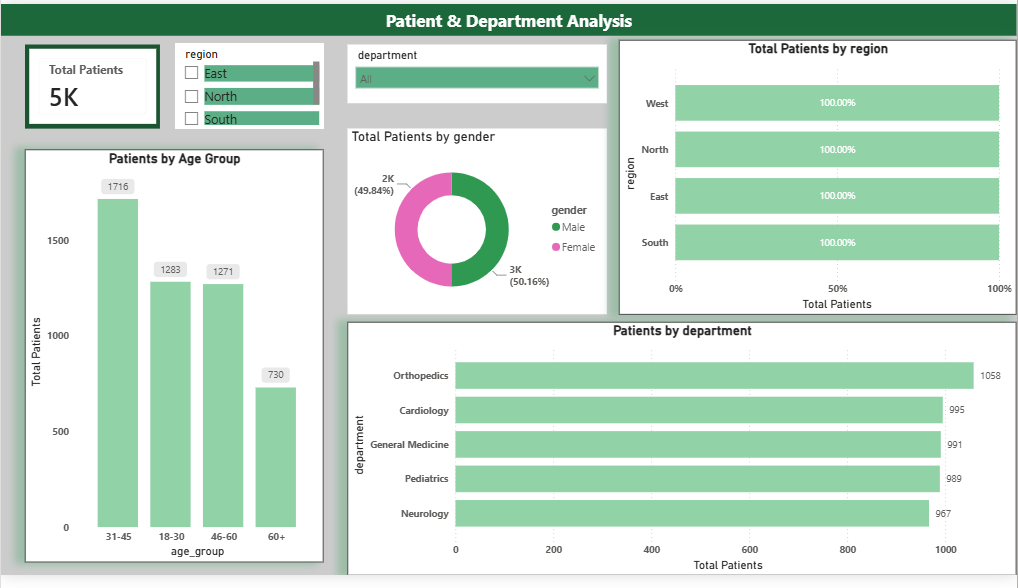

Layout of this report page (visuals, bound fields, positions):
{"tool":"powerbi","page":{"name":"Patient & Department Analysis","canvas":[1280,720],"ordinal":1},"visuals":[{"type":"textbox","box":[0,0,1279.4,39.7],"z":0},{"type":"cardVisual","fields":{"Data":["Measures (2).Total Patients"]},"box":[30.2,51,170.1,105.8],"z":1000},{"type":"clusteredColumnChart","title":"Patients by Age Group","fields":{"Category":["PatientAnalytics.age_group"],"Y":["Measures (2).Total Patients"]},"box":[30.2,183.3,376.1,519.7],"z":2000},{"type":"clusteredBarChart","title":" Patients by department","fields":{"Category":["PatientAnalytics.department"],"Y":["Measures (2).Total Patients"]},"box":[436.5,400.6,842.8,319.4],"z":3000},{"type":"donutChart","fields":{"Category":["PatientAnalytics.gender"],"Y":["Measures (2).Total Patients"]},"box":[436.5,156.9,326.9,234.3],"z":4000},{"type":"hundredPercentStackedBarChart","fields":{"Category":["PatientAnalytics.region"],"Y":["Measures (2).Total Patients"]},"box":[778.6,45.4,500.8,345.8],"z":5000},{"type":"slicer","fields":{"Values":["PatientAnalytics.region"]},"box":[219.2,49.1,187.1,107.7],"z":6000},{"type":"slicer","fields":{"Values":["PatientAnalytics.department"]},"box":[436.5,51,326.9,73.7],"z":7000}]}

Visuals, with their boxes in screenshot pixels (x1, y1, x2, y2), scaled from the page's 1280x720 canvas onto the 1018x588 screenshot:
textbox: x1=0, y1=0, x2=1017, y2=32
cardVisual - Measures (2).Total Patients: x1=24, y1=42, x2=159, y2=128
"Patients by Age Group" clusteredColumnChart: x1=24, y1=150, x2=323, y2=574
" Patients by department" clusteredBarChart: x1=347, y1=327, x2=1017, y2=587
donutChart - PatientAnalytics.gender x Measures (2).Total Patients: x1=347, y1=128, x2=607, y2=319
hundredPercentStackedBarChart - PatientAnalytics.region x Measures (2).Total Patients: x1=619, y1=37, x2=1017, y2=319
slicer - PatientAnalytics.region: x1=174, y1=40, x2=323, y2=128
slicer - PatientAnalytics.department: x1=347, y1=42, x2=607, y2=102
